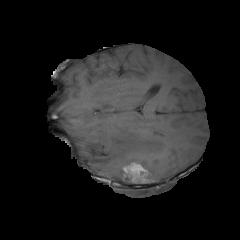glioma: (91, 127, 172, 182)
